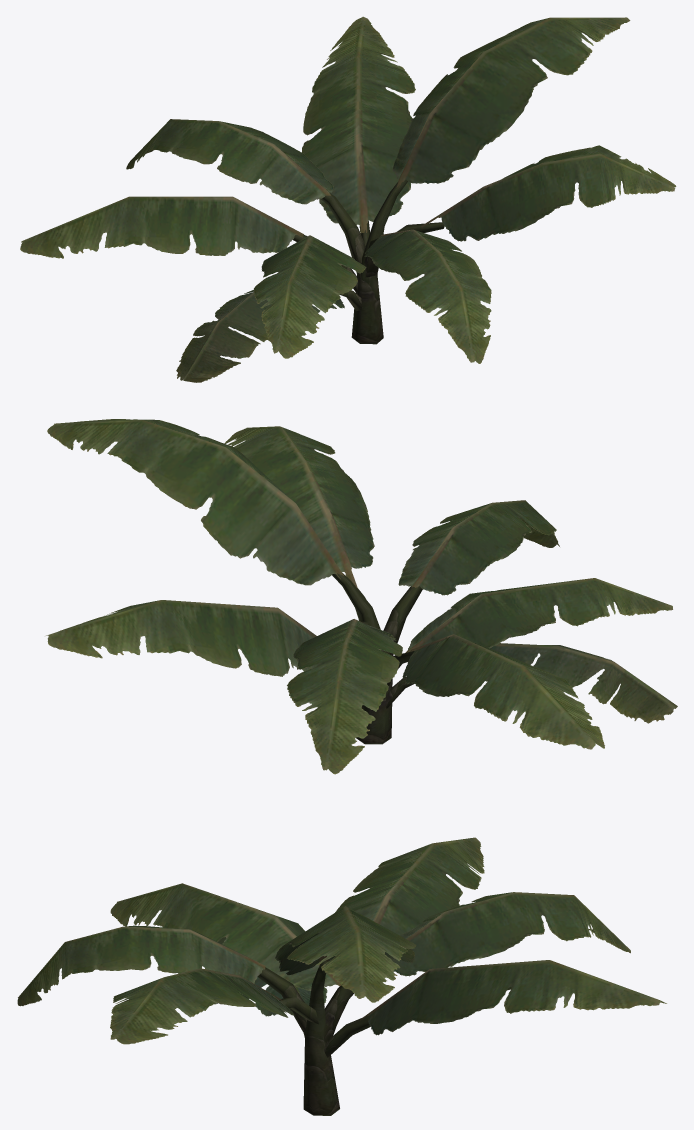
Rendered from wm_灌木芭蕉02.fbx.
3 renders of one model, top to bottom at view 1: azimuth 30°, elevation 25°; view 2: azimuth 150°, elevation 25°; view 3: azimuth 270°, elevation 25°, orthographic. The views are drawn at different scales.
Parts seen in each view (by area): view 1: wm_灌木芭蕉02; view 2: wm_灌木芭蕉02; view 3: wm_灌木芭蕉02.
Part boxes in pixels (x1,y1,x2,y2): wm_灌木芭蕉02: (20, 16, 676, 382); wm_灌木芭蕉02: (46, 419, 677, 774); wm_灌木芭蕉02: (17, 837, 666, 1115).
Size of the model in its own units: 588 by 254 by 539.
